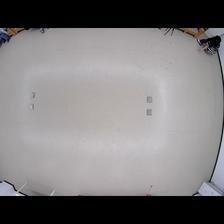fall: (197, 34, 222, 57)
